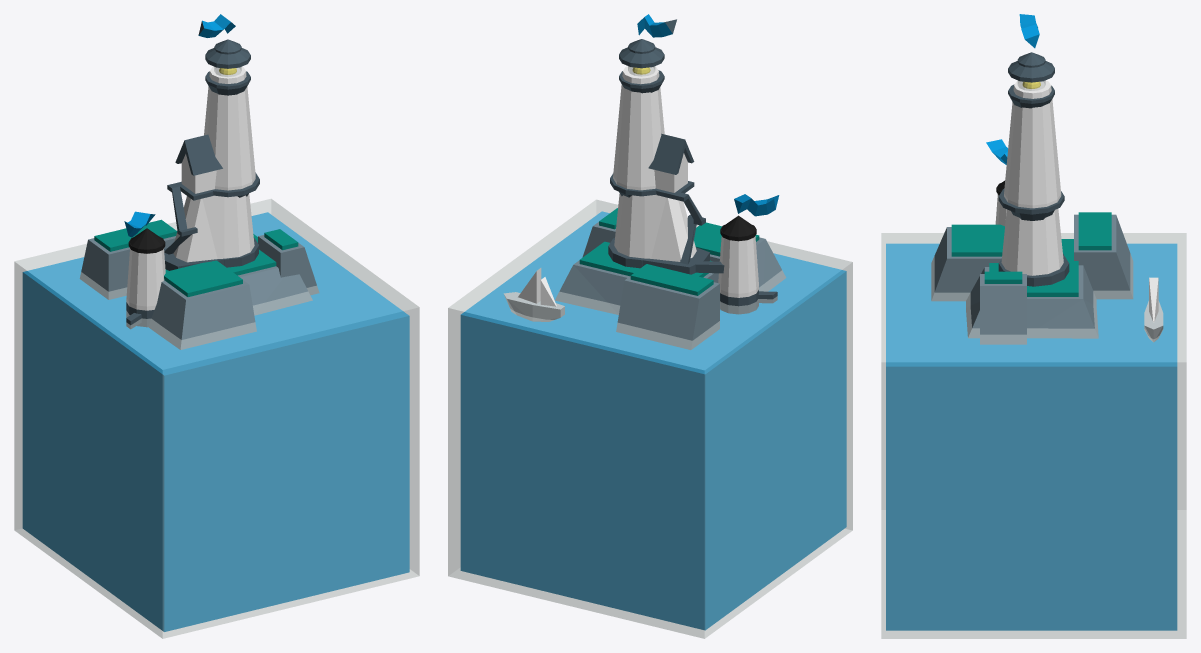
Rendered from lighthouse_b.glb.
3 renders of one model, left to right at view 1: azimuth 30°, elevation 25°; view 2: azimuth 150°, elevation 25°; view 3: azimuth 270°, elevation 25°, orthographic. The views are drawn at different scales.
Parts seen in each view (by area): view 1: group1255294453, group1641096823, group1933818132, group290066131, group1955716470, group1422244961, group1616082817, group727519886; view 2: group1255294453, group1641096823, group290066131, group1933818132, group1955716470, group1422244961, group1616082817, group368752497, group1691948517, group1356797277, group727519886, group1051853130; view 3: group1255294453, group1641096823, group1933818132, group290066131, group1422244961, group1955716470, group368752497, group1051853130.
Boxes of the visible parts, left/top/right/bottom form: group1255294453: left=14, top=199, right=419, bottom=638; group1641096823: left=22, top=212, right=409, bottom=631; group1933818132: left=80, top=235, right=319, bottom=349; group290066131: left=173, top=66, right=255, bottom=262; group1955716470: left=164, top=39, right=259, bottom=270; group1422244961: left=94, top=219, right=298, bottom=296; group1616082817: left=126, top=248, right=165, bottom=310; group727519886: left=128, top=228, right=165, bottom=253; group1255294453: left=448, top=199, right=852, bottom=638; group1641096823: left=460, top=211, right=846, bottom=630; group290066131: left=613, top=66, right=696, bottom=261; group1933818132: left=555, top=222, right=785, bottom=349; group1955716470: left=608, top=39, right=709, bottom=274; group1422244961: left=579, top=208, right=759, bottom=295; group1616082817: left=718, top=236, right=758, bottom=297; group368752497: left=503, top=268, right=564, bottom=321; group1691948517: left=734, top=194, right=779, bottom=216; group1356797277: left=720, top=290, right=758, bottom=314; group727519886: left=720, top=215, right=756, bottom=241; group1051853130: left=637, top=14, right=676, bottom=37; group1255294453: left=881, top=233, right=1186, bottom=638; group1641096823: left=886, top=243, right=1177, bottom=630; group1933818132: left=931, top=214, right=1133, bottom=344; group290066131: left=1001, top=80, right=1063, bottom=275; group1422244961: left=951, top=212, right=1111, bottom=296; group1955716470: left=998, top=52, right=1069, bottom=286; group368752497: left=1144, top=277, right=1163, bottom=342; group1051853130: left=1019, top=14, right=1039, bottom=48.
Size of the model in its own units: 0.65 by 1.3 by 0.65.
